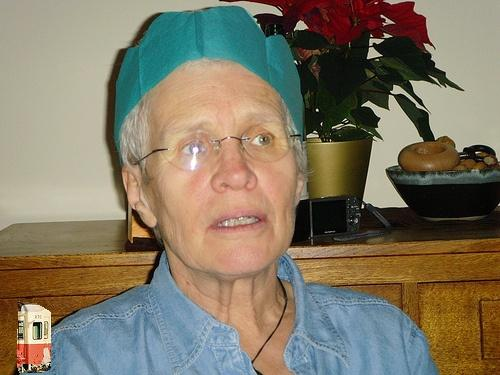tampered: (18, 302, 51, 373)
